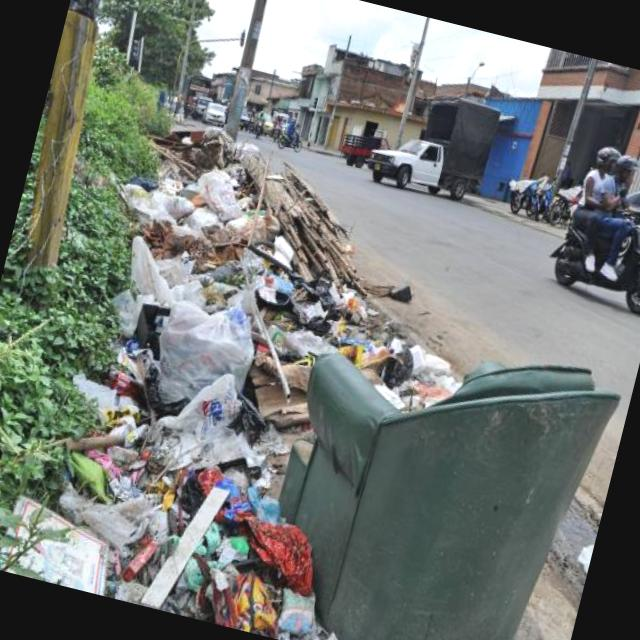garbage: (37, 181, 629, 640)
